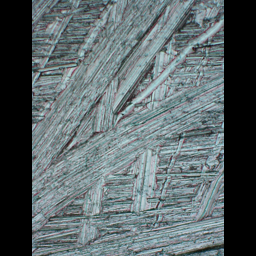d: (32, 1, 223, 256)
